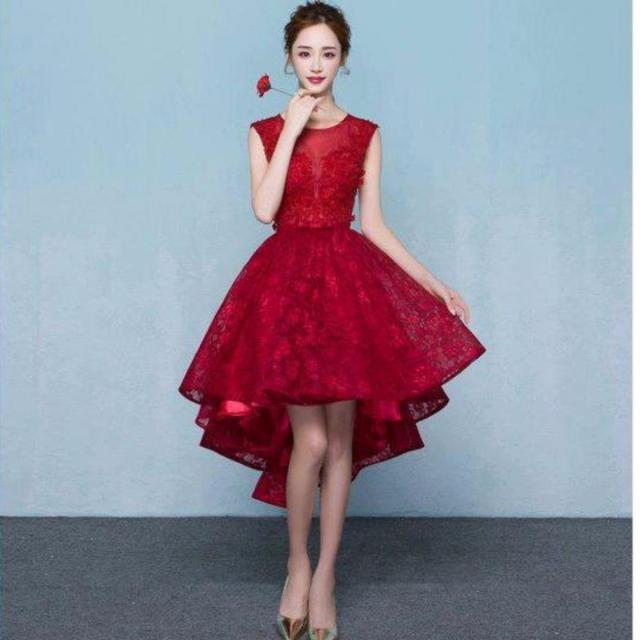clothes: (186, 105, 486, 461)
